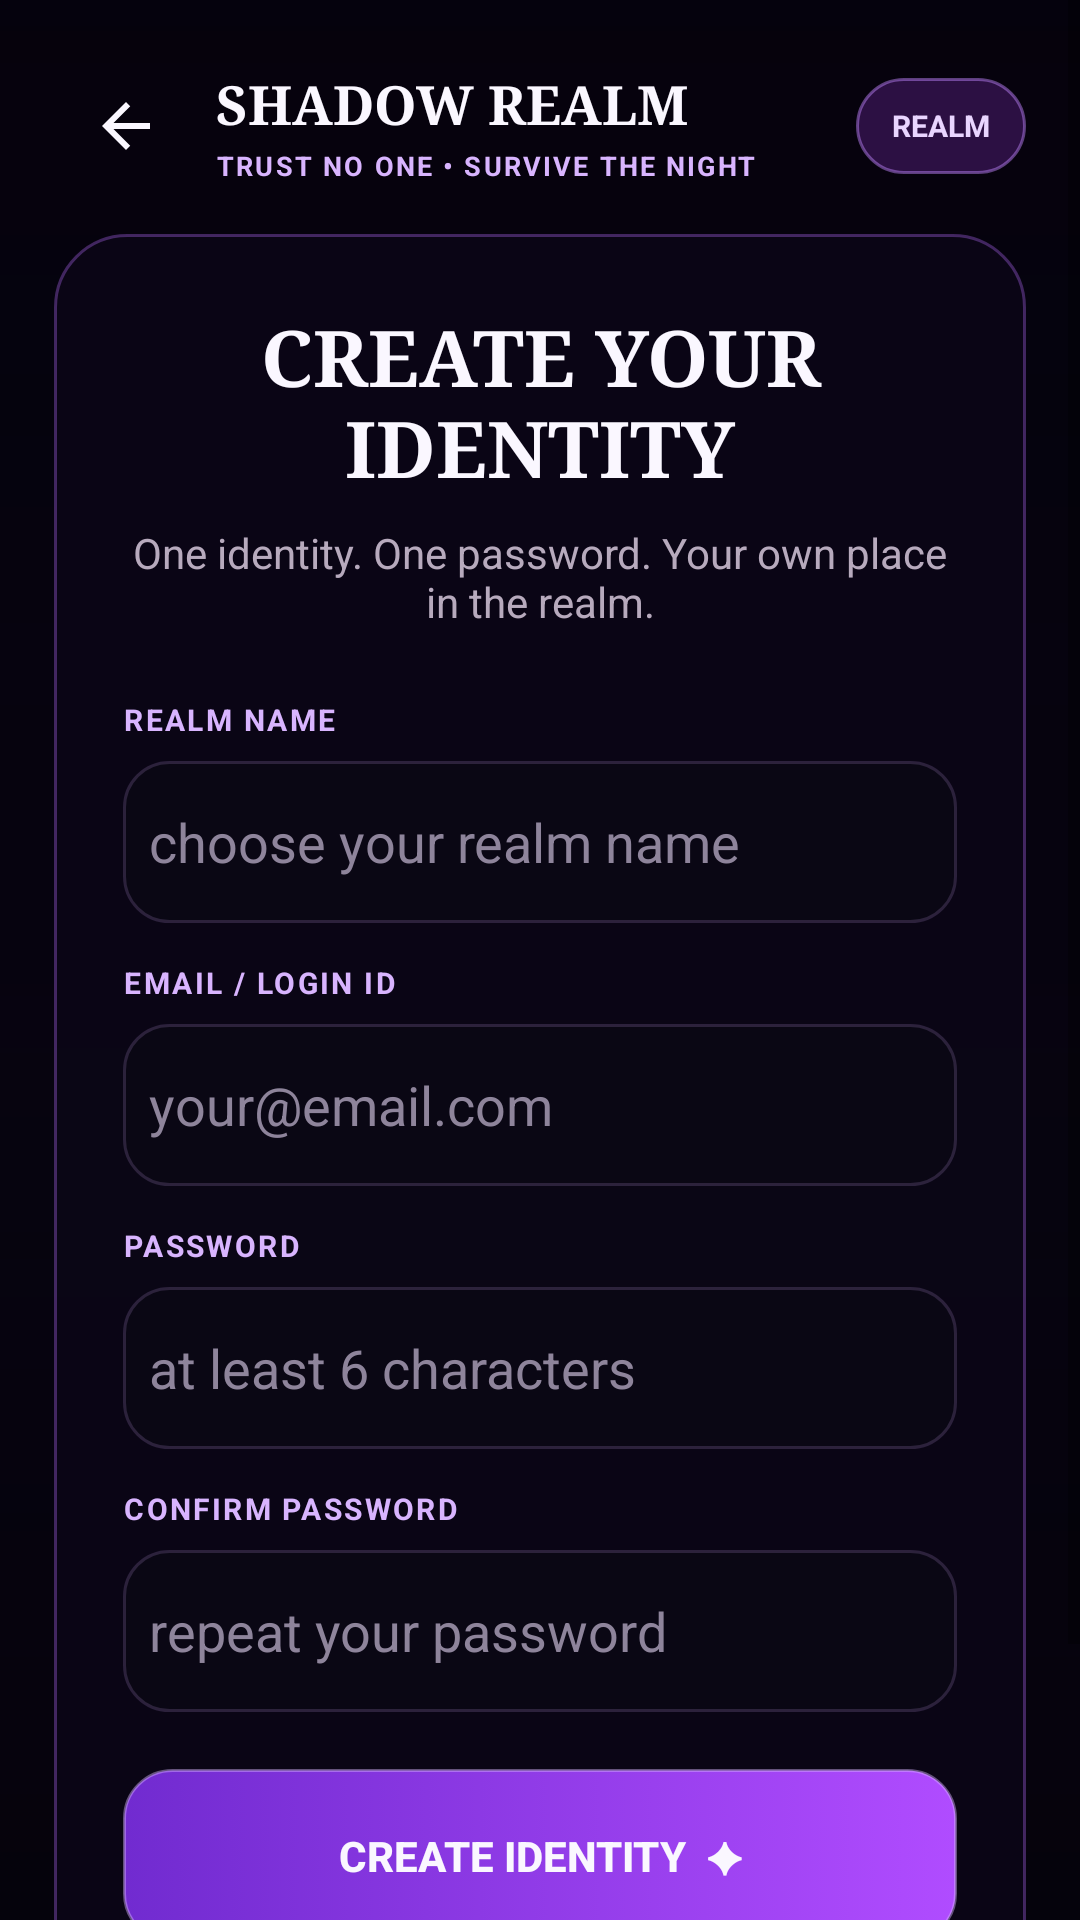

Icons on this 1080 × 1920 Android screen, each with its box as [x1,y1,x2,y2]:
Back: [102,102,150,150]
